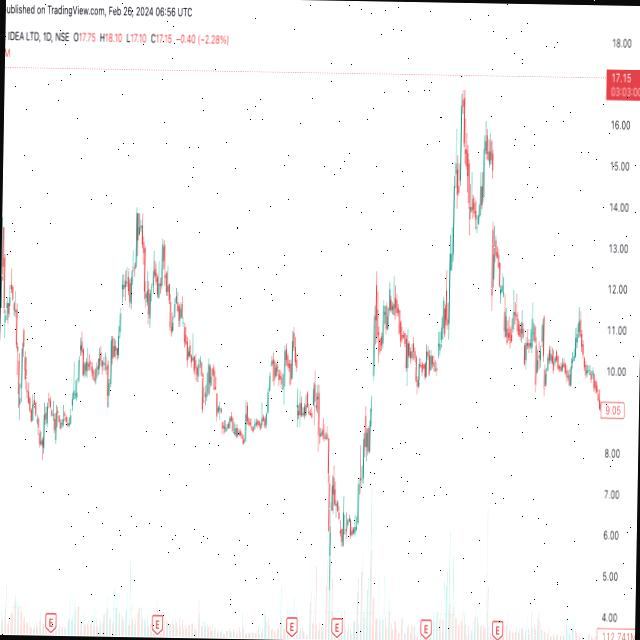Gap Down: (486, 136, 498, 278), (292, 348, 304, 432)
Gap Up: (362, 302, 382, 419), (114, 276, 128, 344)
